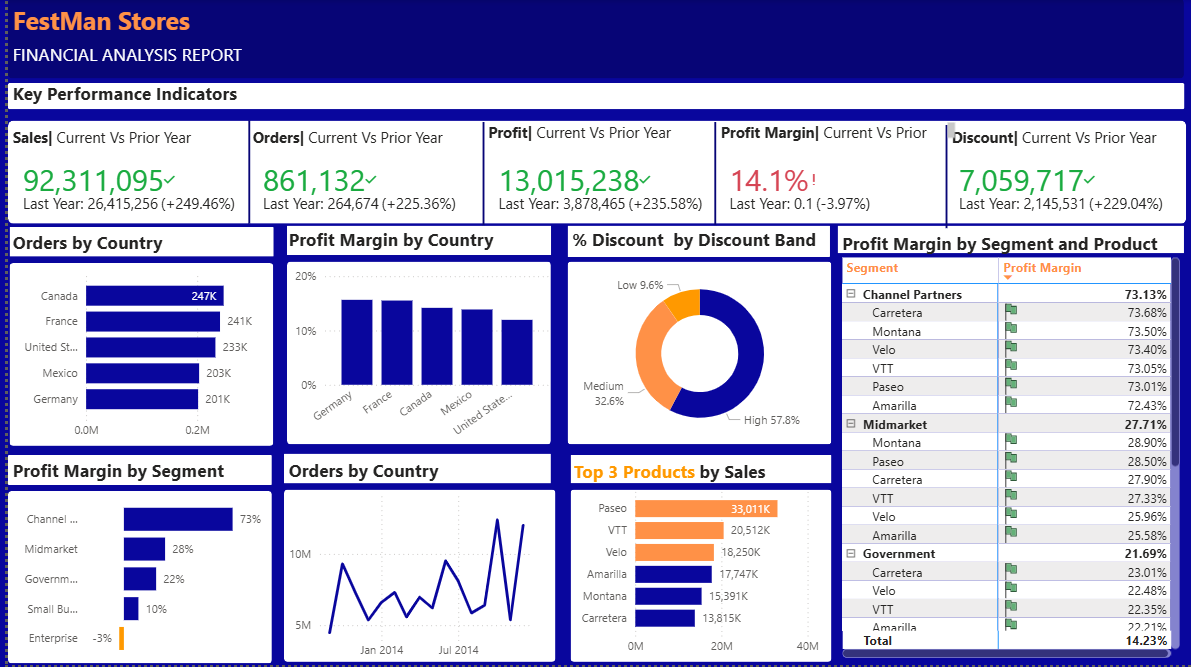

What the dashboard file says about the page in this screenshot:
{"tool":"powerbi","page":{"name":"Page 1","canvas":[1280,720],"ordinal":0},"visuals":[{"type":"shape","box":[0,0,1269.5,85.8],"z":0},{"type":"shape","box":[0,90.7,1269.9,28.3],"z":1000},{"type":"shape","box":[0,130.4,1271.8,111.5],"z":2000},{"type":"shape","box":[604,283.4,285,197.5],"z":3000},{"type":"shape","box":[604.7,243.8,283.5,34],"z":4000},{"type":"shape","box":[1.6,285,285,197.5],"z":5000},{"type":"shape","box":[1.9,245.7,285.4,32.1],"z":6000},{"type":"shape","box":[301.2,283.4,285,197.5],"z":7000},{"type":"shape","box":[300.5,243.8,285.4,32.1],"z":8000},{"type":"shape","box":[0,531.1,285,186.2],"z":9000},{"type":"shape","box":[0,492.2,285,32.4],"z":10000},{"type":"shape","box":[297.9,529.5,293.1,186.2],"z":11000},{"type":"shape","box":[297.9,490.6,288.2,32.4],"z":12000},{"type":"shape","box":[607.2,529.5,281.7,186.2],"z":13000},{"type":"shape","box":[607.2,492.2,281.7,30.8],"z":14000},{"type":"shape","box":[895.8,243.8,374.2,30.2],"z":15000},{"type":"textbox","box":[0,0,260.7,56.7],"z":16000},{"type":"textbox","box":[603.8,241.5,284.9,56.6],"z":17000},{"type":"textbox","box":[0,42.1,285,56.7],"z":18000},{"type":"kpi","fields":{"Indicator":["Analysis.Sales Amount"],"TrendLine":["Date Table.Year"],"Goal":["Analysis.Sales Amount LY"]},"box":[3.1,160.6,258.9,88.8],"z":19000},{"type":"textbox","box":[1012.9,132.3,245.7,32.1],"z":20000},{"type":"shape","box":[160.6,130.4,200.3,111.5],"z":21000},{"type":"kpi","fields":{"Indicator":["Analysis.Orders"],"TrendLine":["Date Table.Year"],"Goal":["Analysis.Orders LY"]},"box":[261.6,160.6,255.1,88.8],"z":22000},{"type":"kpi","fields":{"TrendLine":["Date Table.Year"],"Indicator":["Analysis.Profit"],"Goal":["Analysis.Profit LY"]},"box":[516.2,160.6,249.5,88.8],"z":23000},{"type":"kpi","fields":{"TrendLine":["Date Table.Year"],"Indicator":["Analysis.Profit Margin"],"Goal":["Analysis.Profit Margin LY"]},"box":[765.2,160.6,249.5,88.8],"z":24000},{"type":"kpi","fields":{"TrendLine":["Date Table.Year"],"Indicator":["Analysis.Discount offered"],"Goal":["Analysis.Discount Offered LY"]},"box":[1014.2,160.6,257,88.8],"z":25000},{"type":"shape","box":[457.3,132.3,113.4,111.5],"z":26000},{"type":"shape","box":[701.1,132.3,124.7,111.5],"z":27000},{"type":"shape","box":[960,136.1,105.8,111.5],"z":28000},{"type":"textbox","box":[0,132.3,262.7,32.1],"z":29000},{"type":"textbox","box":[514,128.5,262.7,32.1],"z":30000},{"type":"textbox","box":[258.9,132.3,262.7,32.1],"z":31000},{"type":"textbox","box":[763.5,128.5,262.7,32.1],"z":32000},{"type":"barChart","fields":{"Category":["financials.Country"],"Y":["Analysis.Orders"]},"box":[0,285.4,285.4,198.4],"z":33000},{"type":"textbox","box":[298.1,241.5,284.9,56.6],"z":34000},{"type":"textbox","box":[605.7,492.5,286.8,56.6],"z":35000},{"type":"textbox","box":[0,84.9,284.9,56.6],"z":36000},{"type":"clusteredColumnChart","fields":{"Y":["Analysis.Profit Margin"],"Category":["financials.Country"]},"box":[303.8,284.9,284.9,198.1],"z":37000},{"type":"donutChart","fields":{"Category":["financials.Discount Band"],"Y":["Analysis.Discount offered"]},"box":[603.8,283,284.9,198.1],"z":38000},{"type":"barChart","fields":{"Category":["financials.Segment"],"Y":["Analysis.Profit Margin"]},"box":[0,522.6,284.9,198.1],"z":39000},{"type":"lineChart","fields":{"Category":["Date Table.Date.Variation.Date Hierarchy.Year","Date Table.Date.Variation.Date Hierarchy.Month"],"Y":["Analysis.Sales Amount"]},"box":[298.1,522.6,284.9,198.1],"z":40000},{"type":"barChart","fields":{"Y":["Analysis.Sales Amount"],"Category":["financials.Product"]},"box":[609.4,518.9,284.9,198.1],"z":41000},{"type":"textbox","box":[298.1,490.6,286.8,56.6],"z":42000},{"type":"textbox","box":[0,245.3,286.8,56.6],"z":43000},{"type":"textbox","box":[0,490.6,286.8,56.6],"z":44000},{"type":"pivotTable","fields":{"Rows":["financials.Segment","financials.Product"],"Values":["Analysis.Profit Margin"]},"box":[895.8,274,374.2,442.2],"z":45000},{"type":"textbox","box":[895.8,245.7,376.1,56.7],"z":46000}]}

Visuals, with their boxes in screenshot pixels (x1, y1, x2, y2), scaled from the page's 1280x720 canvas onto the 1191x667 screenshot:
shape: 0,0,1181,79
shape: 0,84,1182,110
shape: 0,121,1183,224
shape: 562,263,827,446
shape: 563,226,826,257
shape: 1,264,267,447
shape: 2,228,267,257
shape: 280,263,545,446
shape: 280,226,545,256
shape: 0,492,265,664
shape: 0,456,265,486
shape: 277,491,550,663
shape: 277,454,545,485
shape: 565,491,827,663
shape: 565,456,827,485
shape: 834,226,1182,254
textbox: 0,0,243,53
textbox: 562,224,827,276
textbox: 0,39,265,92
kpi - Analysis.Sales Amount x Date Table.Year: 3,149,244,231
textbox: 942,123,1171,152
shape: 149,121,336,224
kpi - Analysis.Orders x Date Table.Year: 243,149,481,231
kpi - Date Table.Year x Analysis.Profit: 480,149,712,231
kpi - Date Table.Year x Analysis.Profit Margin: 712,149,944,231
kpi - Date Table.Year x Analysis.Discount offered: 944,149,1183,231
shape: 426,123,531,226
shape: 652,123,768,226
shape: 893,126,992,229
textbox: 0,123,244,152
textbox: 478,119,723,149
textbox: 241,123,485,152
textbox: 710,119,955,149
barChart - financials.Country x Analysis.Orders: 0,264,266,448
textbox: 277,224,542,276
textbox: 564,456,830,509
textbox: 0,79,265,131
clusteredColumnChart - Analysis.Profit Margin x financials.Country: 283,264,548,447
donutChart - financials.Discount Band x Analysis.Discount offered: 562,262,827,446
barChart - financials.Segment x Analysis.Profit Margin: 0,484,265,666
lineChart - Date Table.Date.Variation.Date Hierarchy.Year x Date Table.Date.Variation.Date Hierarchy.Month: 277,484,542,666
barChart - Analysis.Sales Amount x financials.Product: 567,481,832,664
textbox: 277,454,544,507
textbox: 0,227,267,280
textbox: 0,454,267,507
pivotTable - financials.Segment x financials.Product: 834,254,1182,663
textbox: 834,228,1183,280
